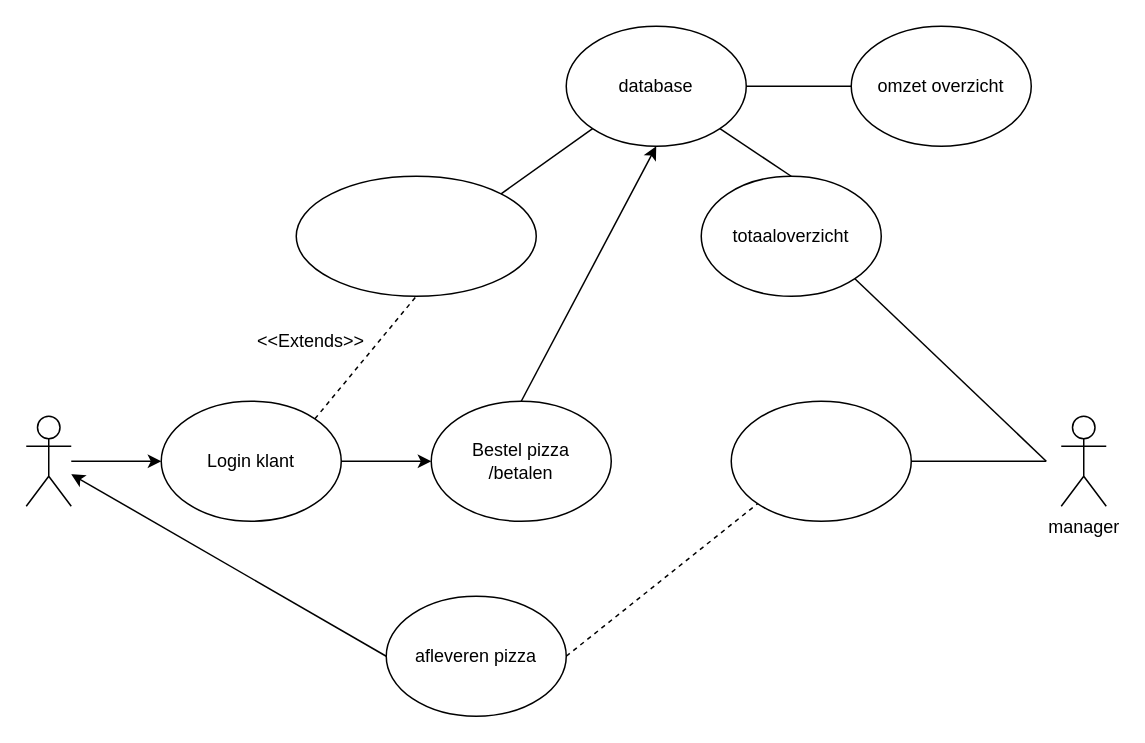
The diagram is 1145 pixels wide and 743 high, and some of its shapes have lost their labels. The shapes that lost their labels are listed below. From the top down, each one's centre as x and y in pixels, then its label:
(x=415, y=235): account aanmaken (eerste keer inolggen)
(x=48, y=460): Klant
(x=820, y=460): notify couriers/bakers
